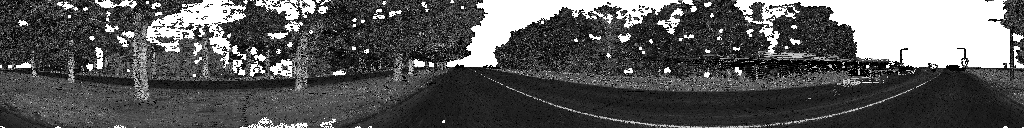light_pole: (1009, 30, 1015, 80), (898, 49, 907, 69), (956, 47, 967, 57), (434, 56, 436, 74), (990, 19, 1004, 21)
traffic_pole: (961, 58, 968, 70), (928, 64, 937, 73)
